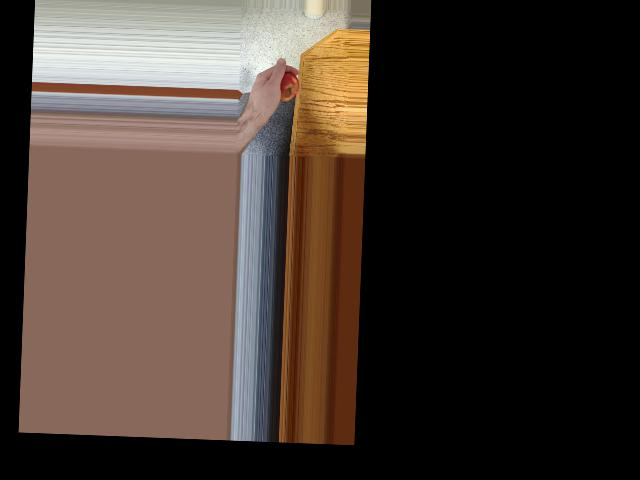apple: (268, 70, 301, 104)
